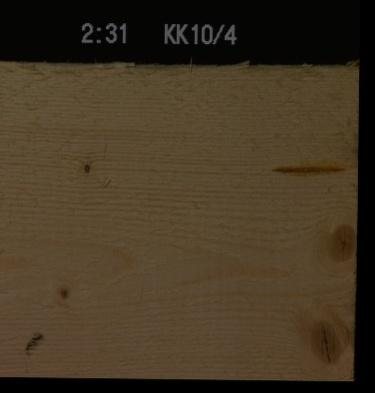dry_knot: (78, 161, 91, 174)
sound_knot: (303, 313, 346, 364), (321, 220, 355, 265), (55, 284, 70, 301)
